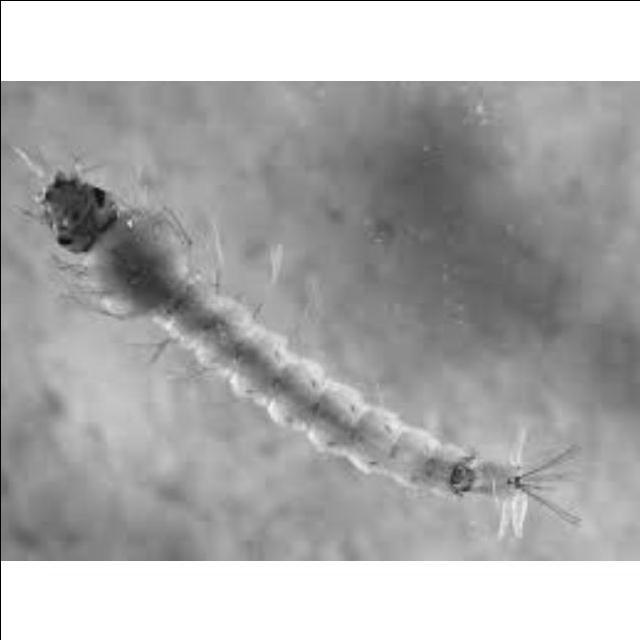larvas: (32, 173, 538, 497)
